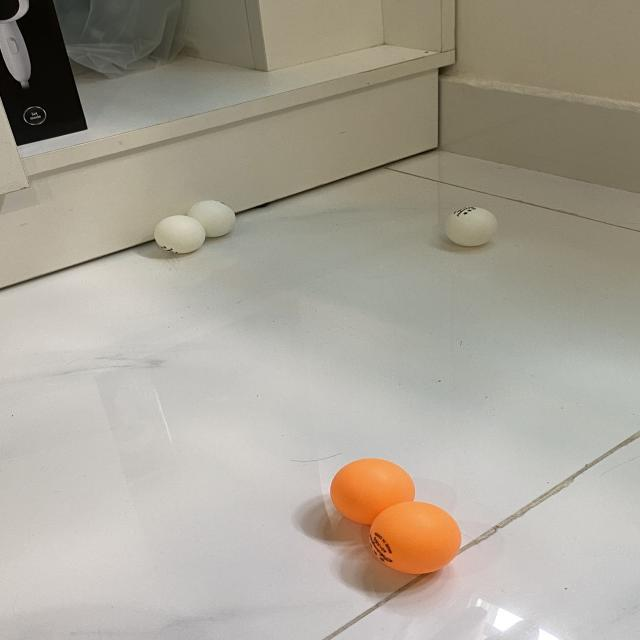ping-pong-ball: (370, 502, 462, 574), (330, 457, 417, 526), (443, 206, 500, 247), (154, 214, 207, 253), (188, 201, 236, 237)
